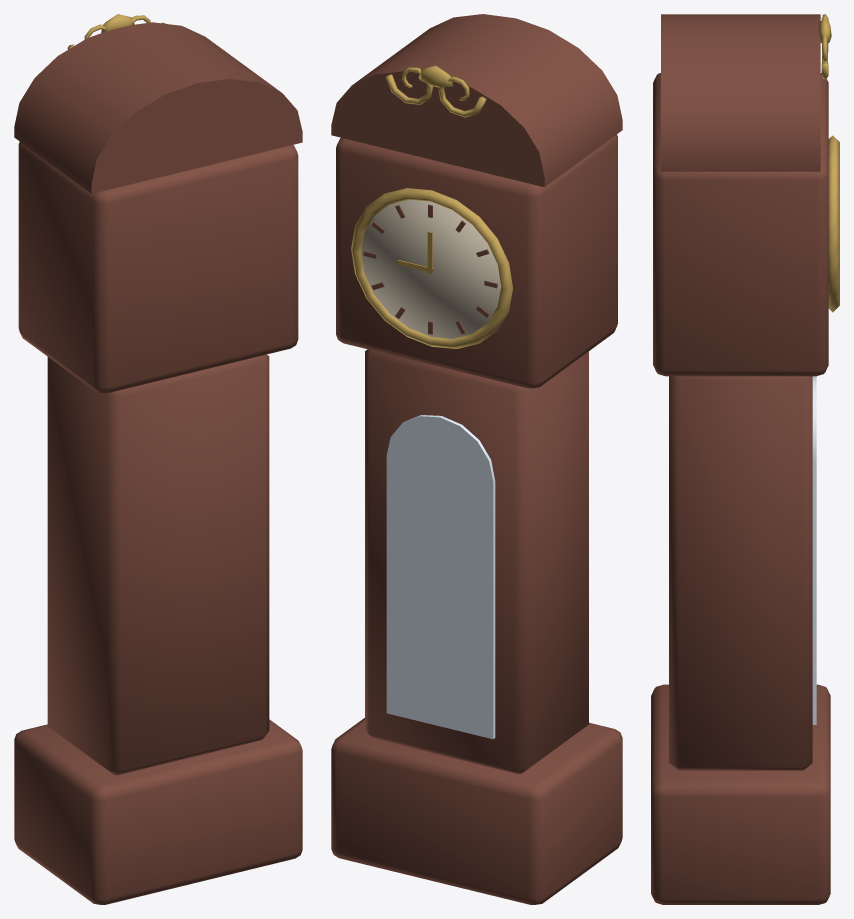
The model's file is clock_grandfather.glb.
The picture shows the model from 3 angles, left to right: view 1: azimuth 30°, elevation 25°; view 2: azimuth 150°, elevation 25°; view 3: azimuth 270°, elevation 25°; orthographic projection. The views are drawn at different scales.
Parts seen in each view (by area): view 1: clock_grandfather; view 2: clock_grandfather; view 3: clock_grandfather.
Part boxes in pixels (box(x1,y1,x2,y2)): clock_grandfather: box(14, 14, 302, 904); clock_grandfather: box(331, 14, 622, 904); clock_grandfather: box(651, 14, 839, 904).
Size of what is drawn, in the model's own units: 0.6 by 2.2 by 0.45.
